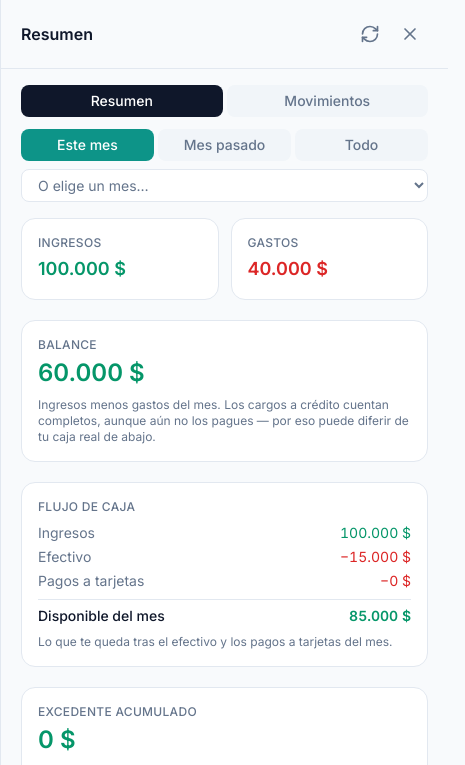
Test: DashboardPanel › shows a goal contribution among the Movimientos
Expected: the text "Balance" is shown, [38,337,97,352]
Click the button "Movimientos". click: point(327, 101)
box: [226,85,428,117]
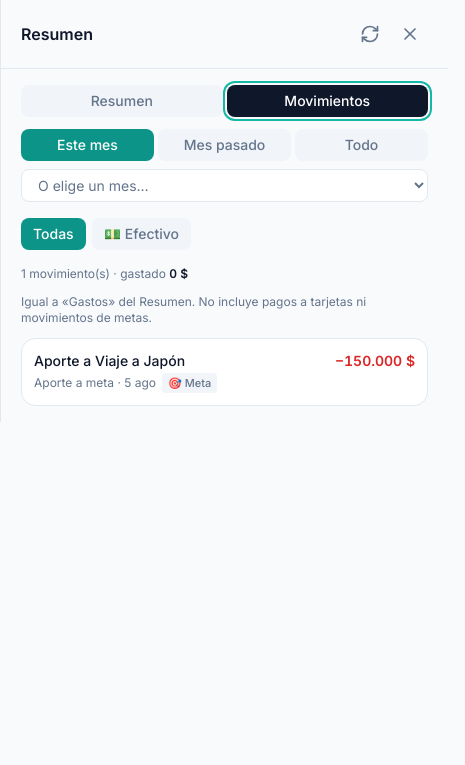
Now the text "Aporte a Viaje a Japón" is shown, box [34,352,185,369]
